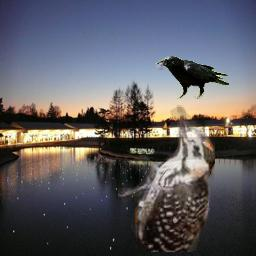Crow: (155, 56, 229, 99)
Woodpecker: (118, 105, 215, 252)
